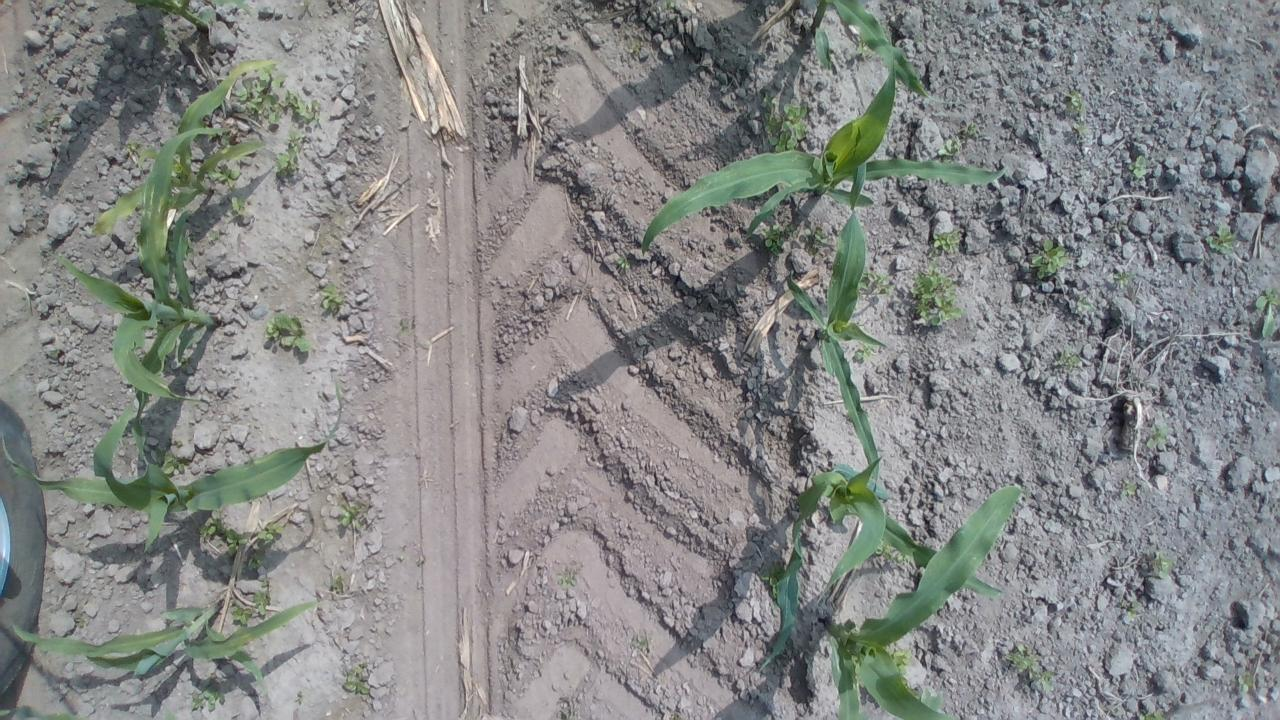Maize: (633, 68, 1001, 259), (754, 413, 1009, 680), (0, 396, 359, 569), (797, 481, 1034, 720), (65, 124, 238, 423), (12, 579, 346, 708), (80, 55, 294, 250), (769, 214, 900, 496), (759, 0, 934, 108), (135, 0, 240, 36)
Weeds: (228, 68, 322, 131), (904, 270, 960, 328), (756, 95, 808, 157), (998, 646, 1059, 697), (242, 518, 295, 572), (756, 220, 824, 260), (187, 147, 246, 189), (256, 310, 308, 357), (270, 128, 308, 190), (184, 672, 238, 714), (1062, 88, 1094, 146), (1024, 236, 1068, 277), (939, 120, 985, 159), (195, 517, 242, 555), (1251, 286, 1280, 344), (756, 555, 790, 601), (1198, 216, 1235, 258), (1139, 544, 1179, 582), (332, 498, 370, 538), (1140, 412, 1174, 454), (341, 660, 375, 702), (924, 229, 966, 262), (313, 280, 348, 317), (155, 442, 189, 480), (222, 194, 260, 228), (854, 268, 892, 302), (872, 536, 912, 566), (888, 646, 919, 684), (1048, 345, 1090, 373), (1232, 666, 1266, 700), (1064, 286, 1098, 320), (850, 333, 886, 363), (1114, 589, 1146, 621), (1125, 154, 1159, 184), (248, 584, 274, 622), (552, 566, 582, 592), (1116, 474, 1142, 503), (1126, 704, 1172, 720), (229, 603, 251, 630), (628, 630, 650, 656), (396, 314, 417, 340), (614, 251, 640, 271), (1111, 266, 1129, 294), (122, 138, 144, 160), (328, 571, 344, 597)
